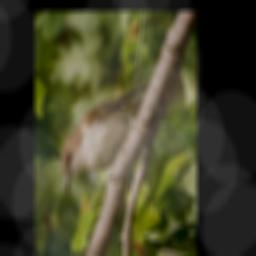Cuckoo: (58, 72, 187, 195)
